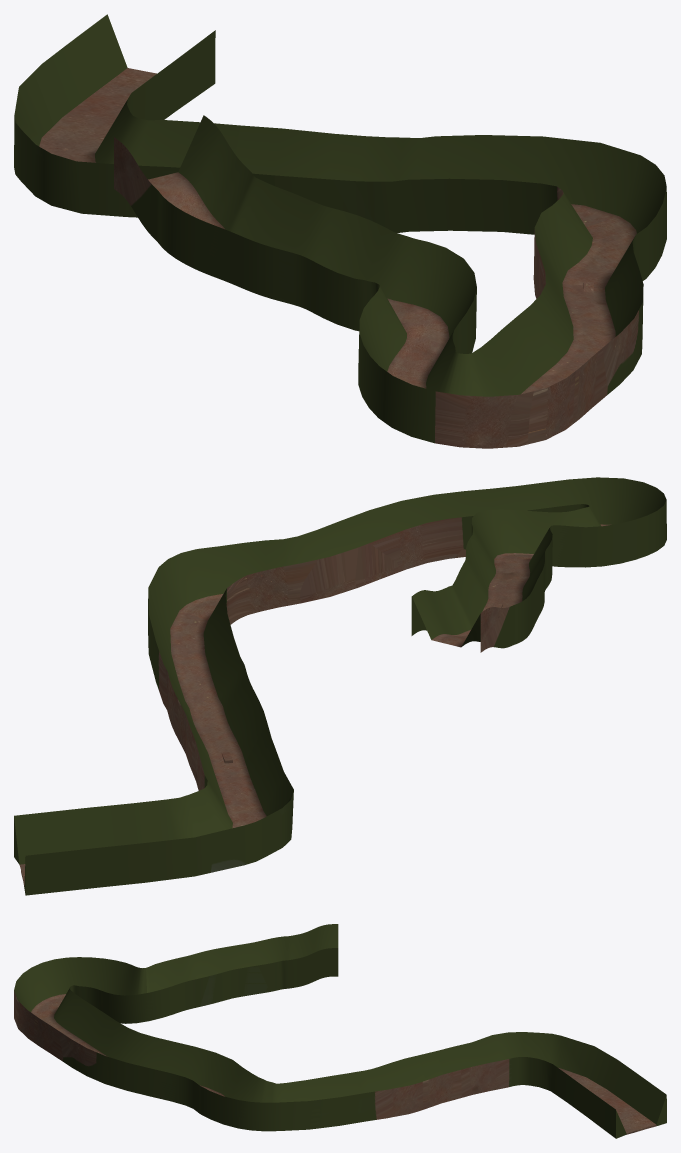
Rendered from FullCourse(Terrain+Track).obj.
The picture shows the model from 3 angles, top to bottom: view 1: azimuth 30°, elevation 25°; view 2: azimuth 150°, elevation 25°; view 3: azimuth 270°, elevation 25°; orthographic projection. The views are drawn at different scales.
Visible parts, largest first — view 1: FullCourse1; view 2: FullCourse1; view 3: FullCourse1.
Part boxes in pixels (bbox=[...]): FullCourse1: bbox=[14, 14, 666, 448]; FullCourse1: bbox=[14, 477, 666, 895]; FullCourse1: bbox=[14, 924, 666, 1138].
Size of the model in its own units: 323 by 143 by 700.
